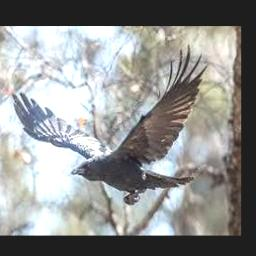Crow: (11, 44, 208, 205)
